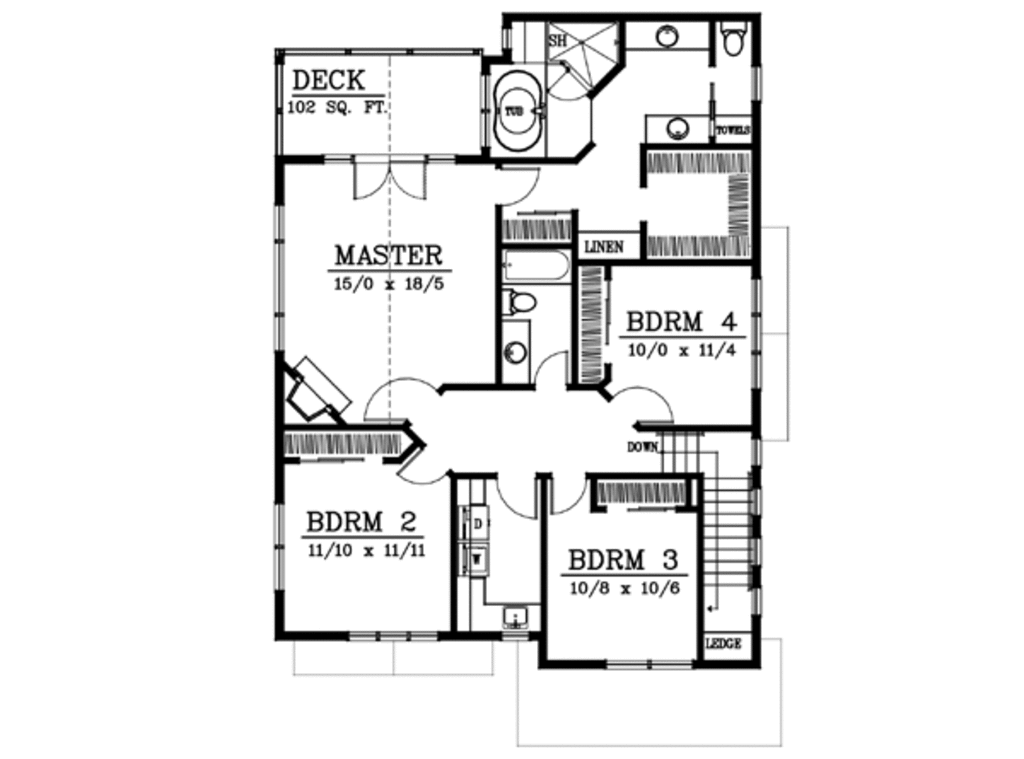door: (352, 367, 441, 420), (352, 154, 437, 203), (609, 374, 684, 424), (541, 476, 608, 523), (488, 162, 551, 208), (389, 441, 446, 491), (493, 474, 542, 527), (535, 349, 570, 387)
large_sink: (701, 18, 752, 61), (493, 287, 548, 318)
sink: (489, 597, 532, 638)
small_sink: (492, 323, 532, 382), (652, 11, 696, 49), (650, 114, 697, 142)
stairs: (621, 424, 753, 620)
tub: (497, 252, 573, 281)
window: (346, 627, 451, 644), (269, 504, 288, 591), (602, 658, 688, 672)
